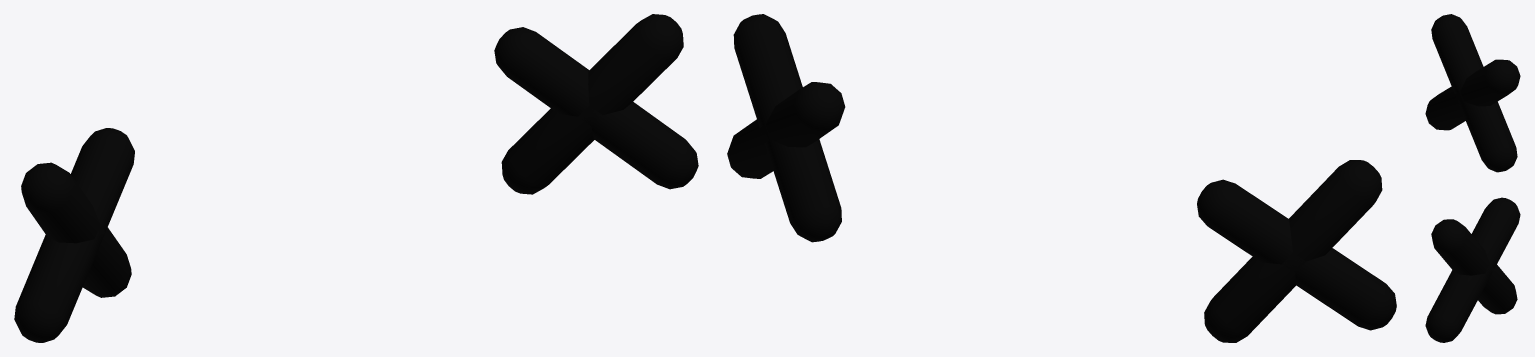
The model's file is Eyes_MM_Dead.fbx.
3 views of the same model, side by side, from view 1: azimuth 30°, elevation 25°; view 2: azimuth 150°, elevation 25°; view 3: azimuth 270°, elevation 25° (orthographic). The views are drawn at different scales.
Visible parts, largest first — view 1: Eye_Open_1; view 2: Eye_Open_1; view 3: Eye_Open_1.
Part boxes in pixels (box(x1,y1,x2,y2)): Eye_Open_1: box(14, 14, 698, 342); Eye_Open_1: box(727, 14, 1396, 342); Eye_Open_1: box(1425, 14, 1520, 342).
Bounding box in the file's own units: 14.19 × 3.59 × 2.51.
1 material, 1 textured.
